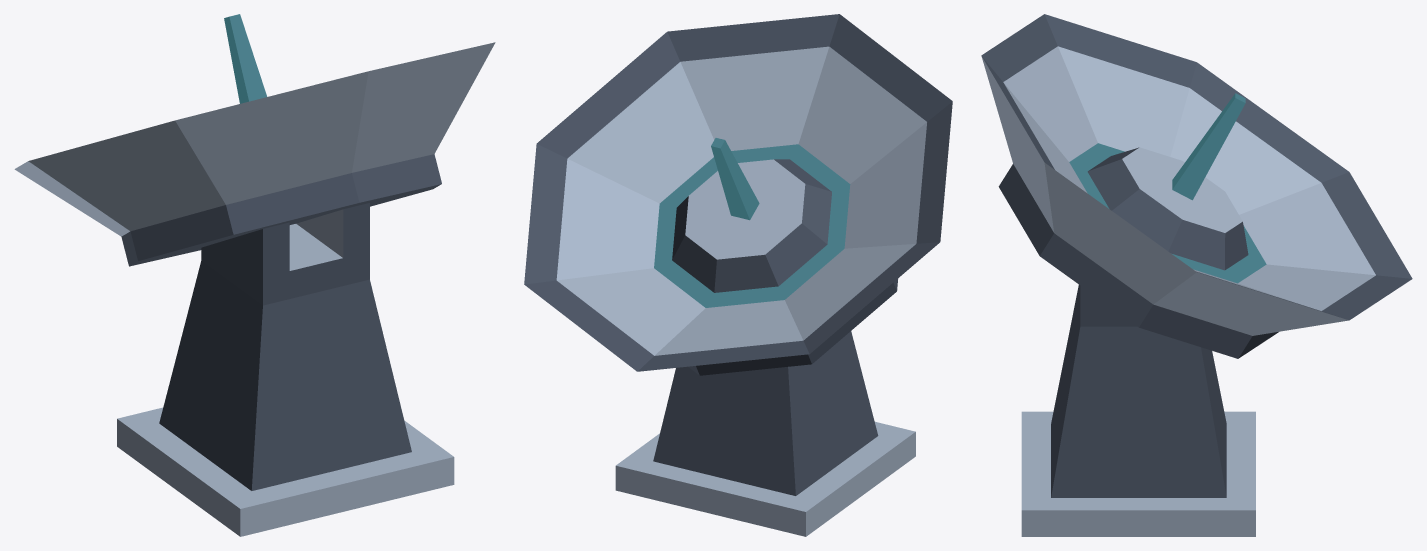
File: satelliteDish_large.glb
3 renders of one model, left to right at view 1: azimuth 30°, elevation 25°; view 2: azimuth 150°, elevation 25°; view 3: azimuth 270°, elevation 25°, orthographic. The views are drawn at different scales.
Parts seen in each view (by area): view 1: satelliteDish_large; view 2: satelliteDish_large; view 3: satelliteDish_large.
Boxes of the visible parts, x1,y1,x2,y2 form: satelliteDish_large: [14, 14, 495, 536]; satelliteDish_large: [524, 14, 952, 536]; satelliteDish_large: [981, 14, 1412, 536].
Bounding box in the file's own units: 0.8487 × 0.8142 × 0.7369.
